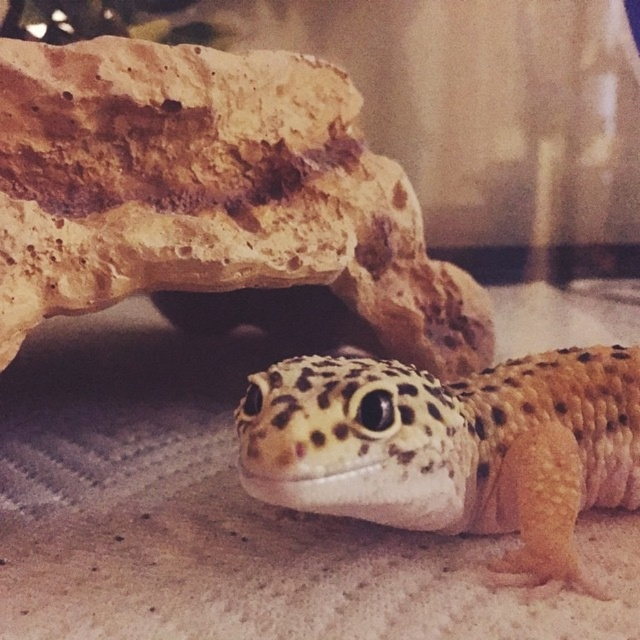Lizard: (243, 350, 623, 602)
